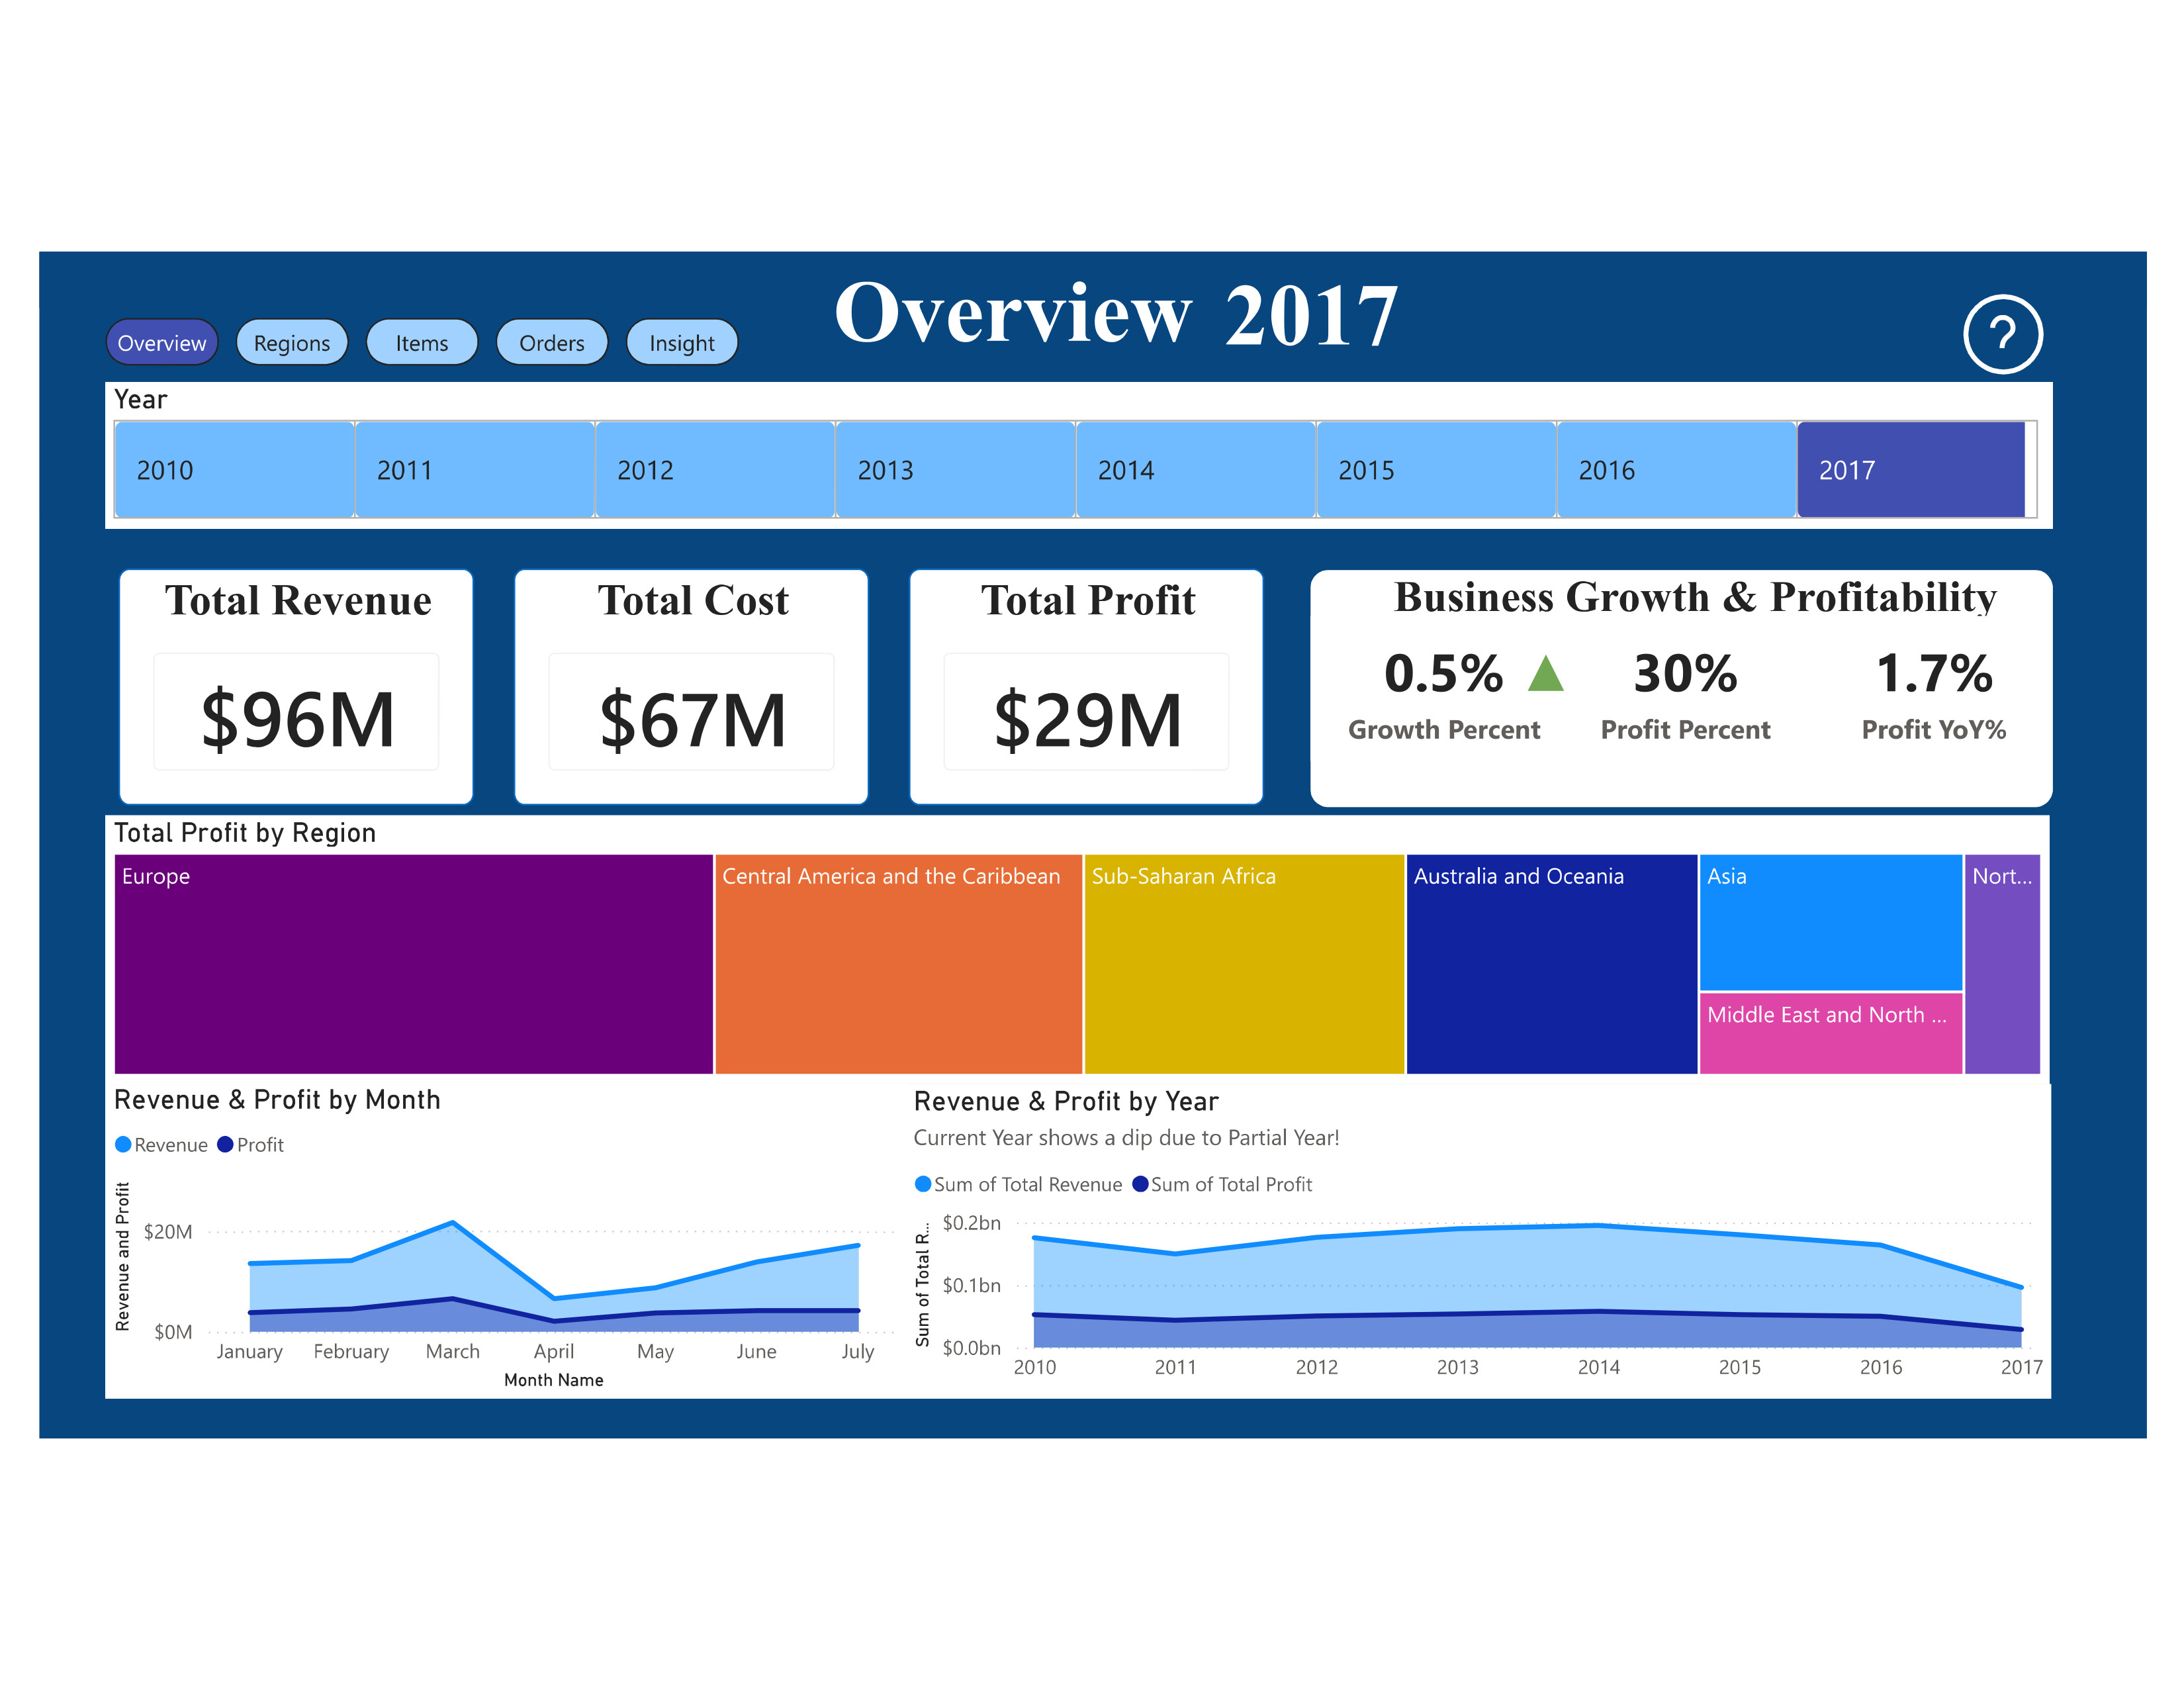

Layout of this report page (visuals, bound fields, positions):
{"tool":"powerbi","page":{"name":"Overview","canvas":[1280,720],"ordinal":0},"visuals":[{"type":"cardVisual","title":"Total Revenue","fields":{"Data":["Records.This.Revenue"]},"box":[48,192,216,144],"z":0},{"type":"cardVisual","title":"Total Cost","fields":{"Data":["Records.This.Cost"]},"box":[288,192,216,144],"z":1000},{"type":"textbox","box":[457.1,0,269.1,100.9],"z":2000},{"type":"treemap","title":"Total Profit by Region","fields":{"Details":["Country.Region"],"Values":["Records.This.Profit"]},"box":[39.5,341.9,1181.4,162.8],"z":3000},{"type":"lineChart","title":"Revenue & Profit by Month","fields":{"Y":["Records.This.Revenue","Records.This.Profit"],"Category":["Date.Month Name"]},"box":[39.6,504.4,487.7,191.8],"z":4000},{"type":"cardVisual","title":"Total Profit","fields":{"Data":["Records.This.Profit"]},"box":[528,192,216,144],"z":5000},{"type":"advancedSlicerVisual","fields":{"Values":["Date.Year"]},"box":[39.6,79.1,1183.3,89],"z":6000},{"type":"lineChart","title":"Revenue & Profit by Year","fields":{"Y":["Sum(Orders.Total Revenue)","Sum(Orders.Total Profit)"],"Category":["Date.Year"]},"box":[526.1,504.6,695.7,191.1],"z":7000},{"type":"pageNavigator","box":[40.5,40.5,385.7,28.6],"z":8000},{"type":"card","fields":{"Values":["Records.This.Year"]},"box":[688.6,0,168.2,67.3],"z":9000},{"type":"multiRowCard","title":"Business Growth & Profitability","fields":{"Values":["Records.Growth Percent"]},"box":[772.1,193,451.2,144.2],"z":10000},{"type":"card","fields":{"Values":["Records.Growth Percent"]},"box":[772.1,220.9,162.8,88.4],"z":11000},{"type":"card","fields":{"Values":["Records.Profit Percent"]},"box":[918.6,220.9,162.8,88.4],"z":12000},{"type":"card","fields":{"Values":["Records.Profit YoY%"]},"box":[1081.4,220.9,139.5,88.4],"z":13000},{"type":"card","fields":{"Values":["Country.Revenue YoY Display"]},"box":[874.4,220.9,81.4,67.4],"z":14000},{"type":"image","box":[0,2.5,1260,717.5],"z":16000},{"type":"actionButton","box":[1162.5,0,57.5,80],"z":17000}]}

Visuals, with their boxes on the page's 1280x720 design canvas (x1, y1, x2, y2). These are canvas units, not pixel positions in the 2184x1688 screenshot, which may show the page scaled, cropped or inside an application window:
"Total Revenue" cardVisual: box=[48, 192, 264, 336]
"Total Cost" cardVisual: box=[288, 192, 504, 336]
textbox: box=[457, 0, 726, 101]
"Total Profit by Region" treemap: box=[40, 342, 1221, 505]
"Revenue & Profit by Month" lineChart: box=[40, 504, 527, 696]
"Total Profit" cardVisual: box=[528, 192, 744, 336]
advancedSlicerVisual - Date.Year: box=[40, 79, 1223, 168]
"Revenue & Profit by Year" lineChart: box=[526, 505, 1222, 696]
pageNavigator: box=[40, 40, 426, 69]
card - Records.This.Year: box=[689, 0, 857, 67]
"Business Growth & Profitability" multiRowCard: box=[772, 193, 1223, 337]
card - Records.Growth Percent: box=[772, 221, 935, 309]
card - Records.Profit Percent: box=[919, 221, 1081, 309]
card - Records.Profit YoY%: box=[1081, 221, 1221, 309]
card - Country.Revenue YoY Display: box=[874, 221, 956, 288]
image: box=[0, 2, 1260, 720]
actionButton: box=[1162, 0, 1220, 80]
